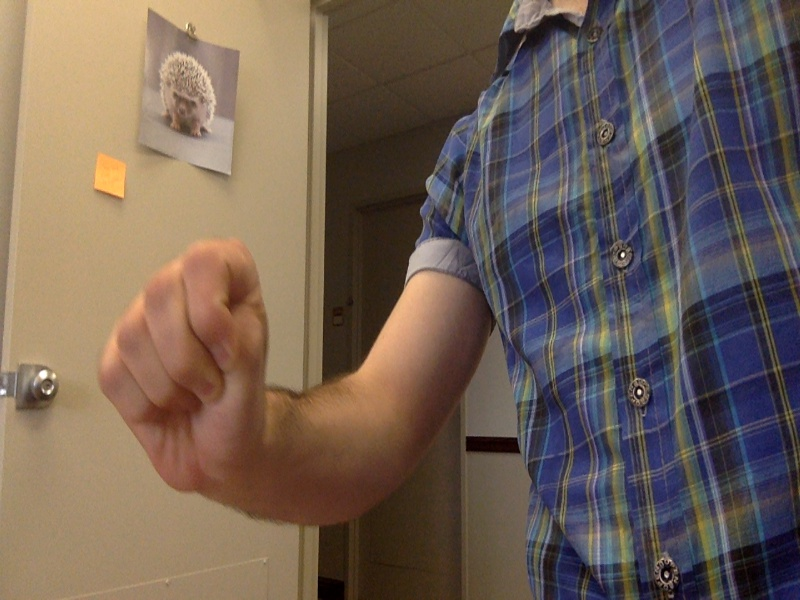0-hand: (97, 239, 283, 498)
